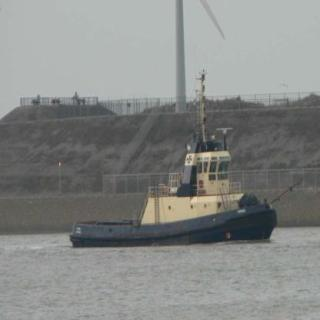Tug Boat: (72, 112, 272, 246)
